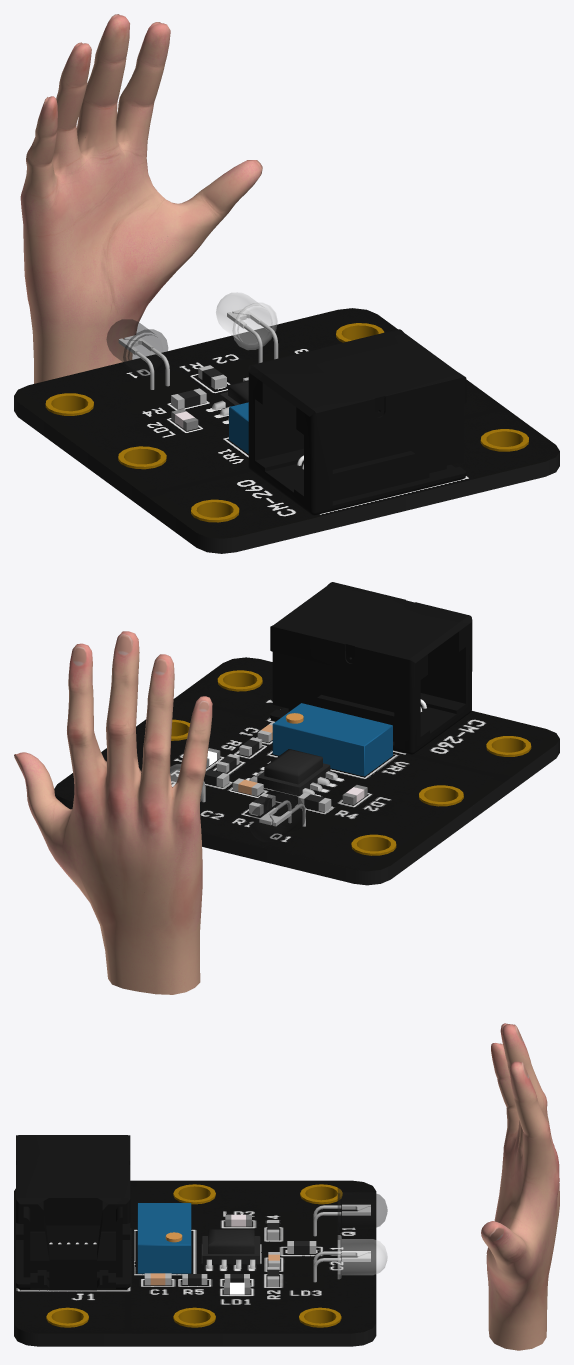
Rendered from IN_red.glb.
3 renders of one model, top to bottom at view 1: azimuth 30°, elevation 25°; view 2: azimuth 150°, elevation 25°; view 3: azimuth 270°, elevation 25°, orthographic. The views are drawn at different scales.
Parts seen in each view (by area): view 1: IR Proximity Sensor, Hand; view 2: IR Proximity Sensor, Hand; view 3: IR Proximity Sensor, Hand.
Part boxes in pixels (box(x1,y1,x2,y2)): IR Proximity Sensor: box(14, 292, 559, 553); Hand: box(20, 14, 262, 383); IR Proximity Sensor: box(54, 582, 559, 885); Hand: box(14, 631, 212, 994); IR Proximity Sensor: box(14, 1135, 387, 1346); Hand: box(481, 1023, 559, 1350).
Size of the model in its own units: 1 by 0.9745 by 1.51.
Materials: 17 (2 with a texture image).
